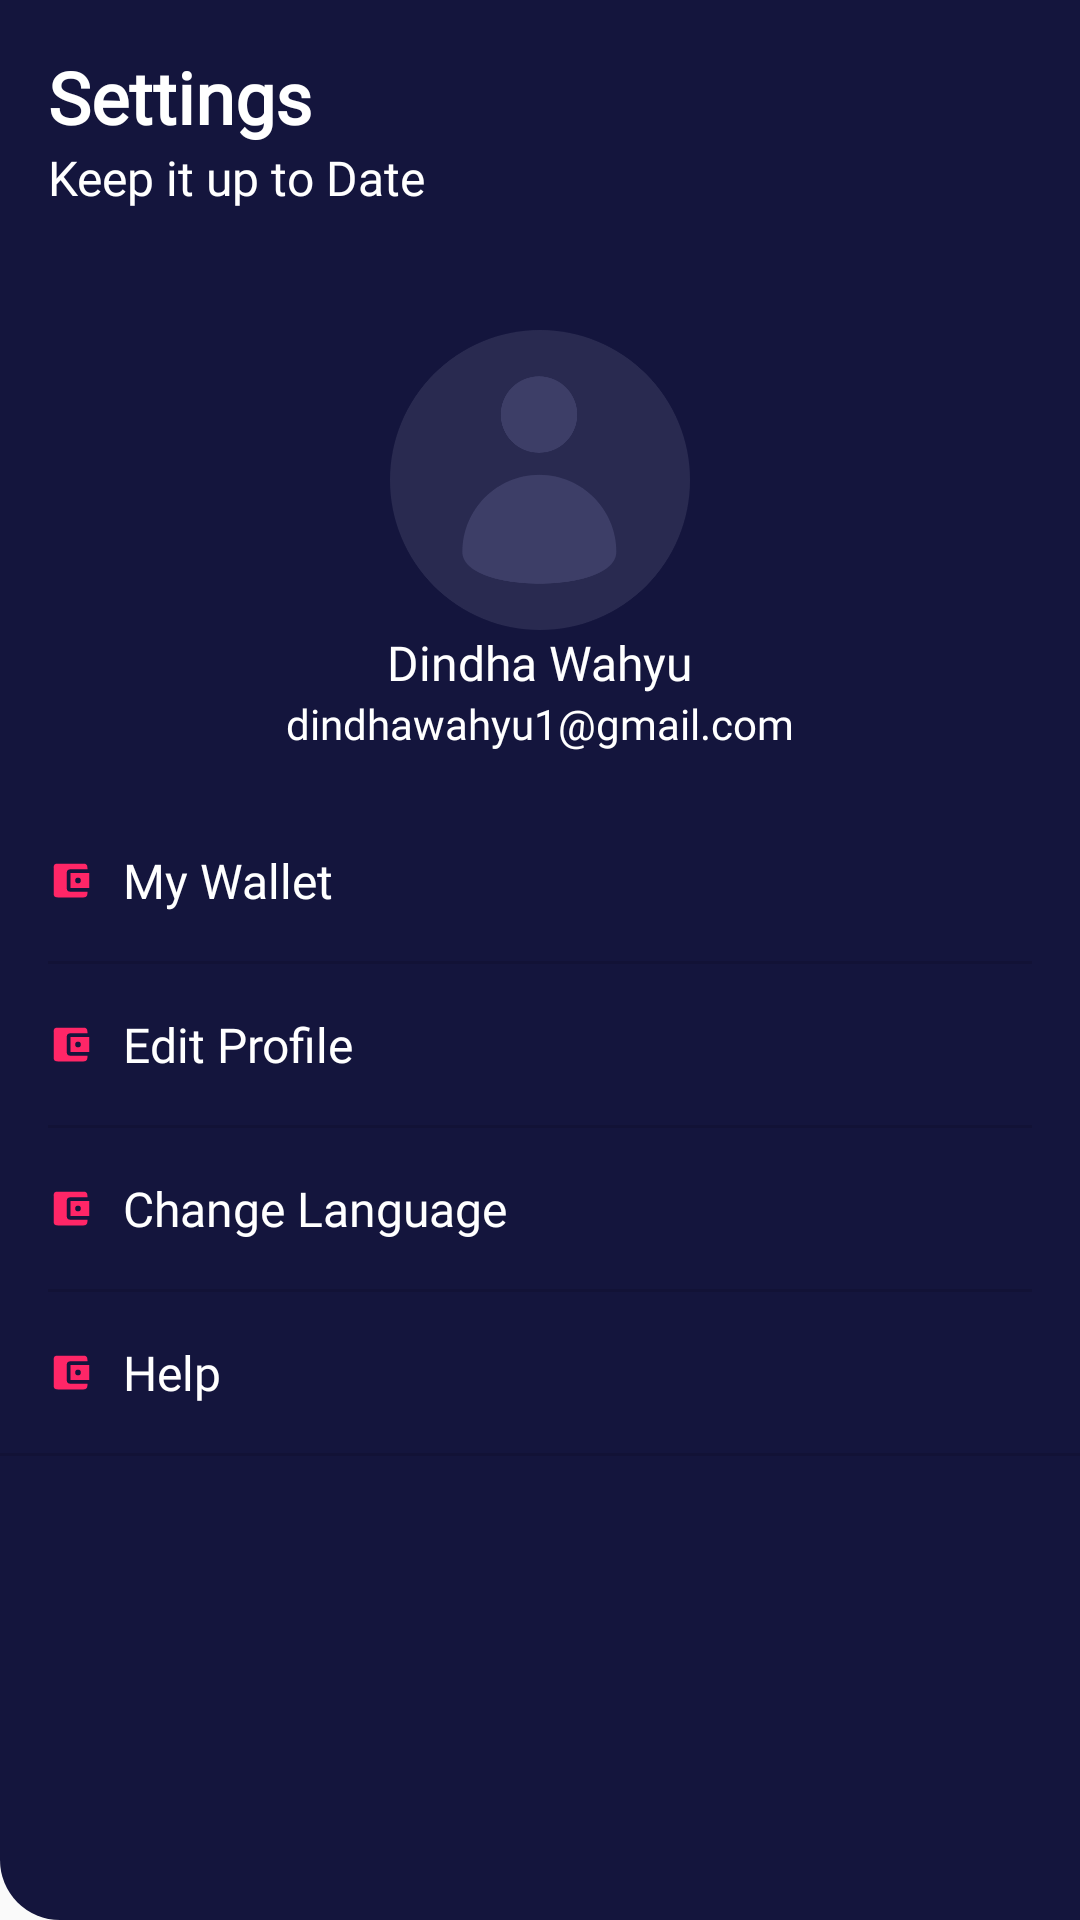

Icon click points for this 1080*1920 phone screenshot, format point (x, y):
user pic: point (539, 480)
